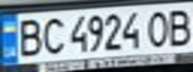2: (103, 10, 127, 52)
4: (121, 8, 145, 51), (66, 11, 90, 53)
9: (84, 11, 106, 53)
B: (12, 16, 45, 57), (163, 6, 193, 47)
C: (39, 15, 66, 55)
O: (142, 7, 175, 48)
